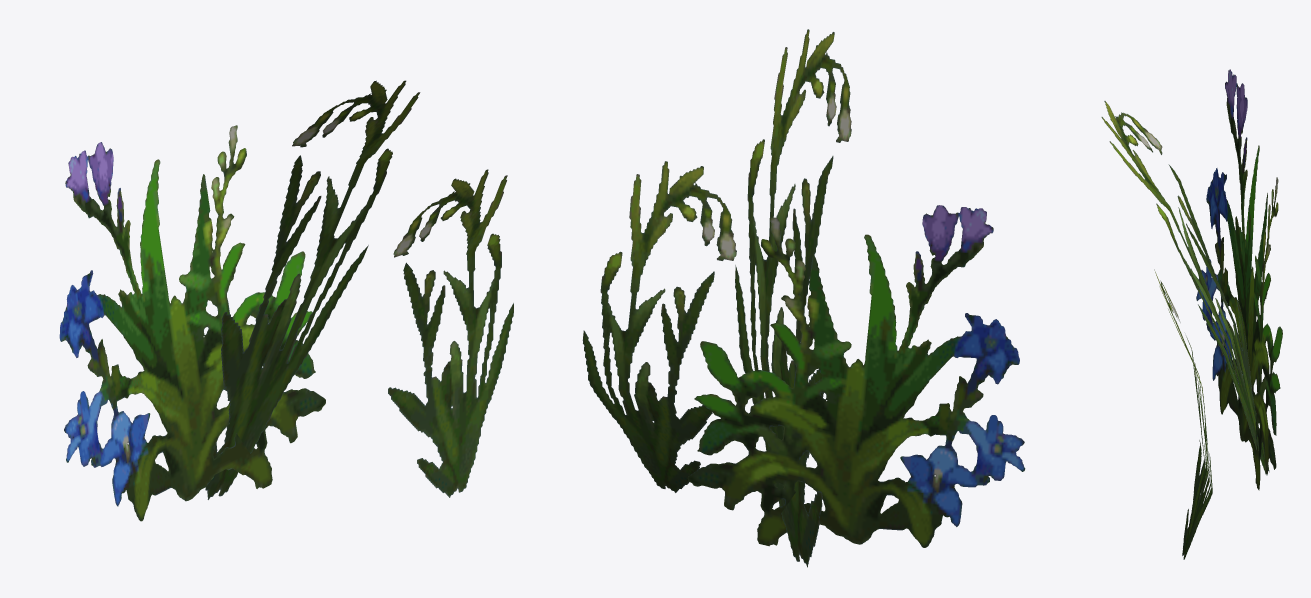
Rendered from xl_huacao_2.FBX.
3 views of the same model, side by side, from view 1: azimuth 30°, elevation 25°; view 2: azimuth 150°, elevation 25°; view 3: azimuth 270°, elevation 25° (orthographic). The views are drawn at different scales.
Parts seen in each view (by area): view 1: xl_huacao_2; view 2: xl_huacao_2; view 3: xl_huacao_2.
Boxes of the visible parts, box(x1,y1,x2,y2) form: xl_huacao_2: box(59, 80, 513, 521); xl_huacao_2: box(582, 29, 1025, 567); xl_huacao_2: box(1101, 69, 1282, 559).
Bounding box in the file's own units: 923 × 846 × 381.
